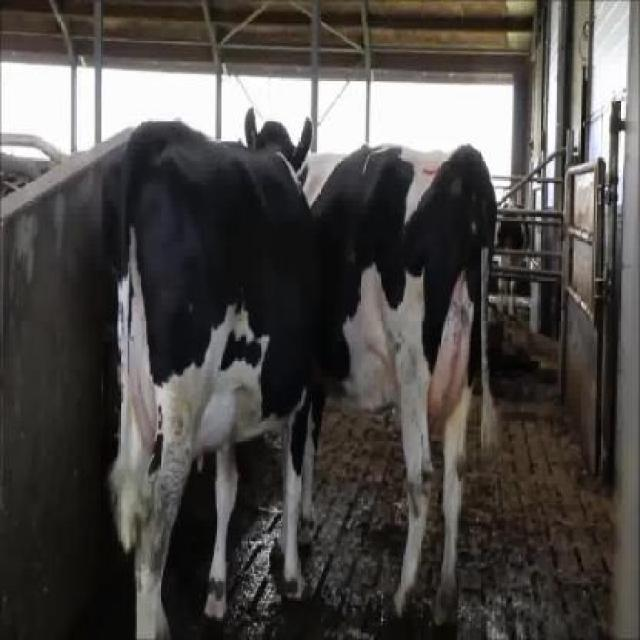Cow: (266, 138, 499, 638), (106, 101, 320, 638)
